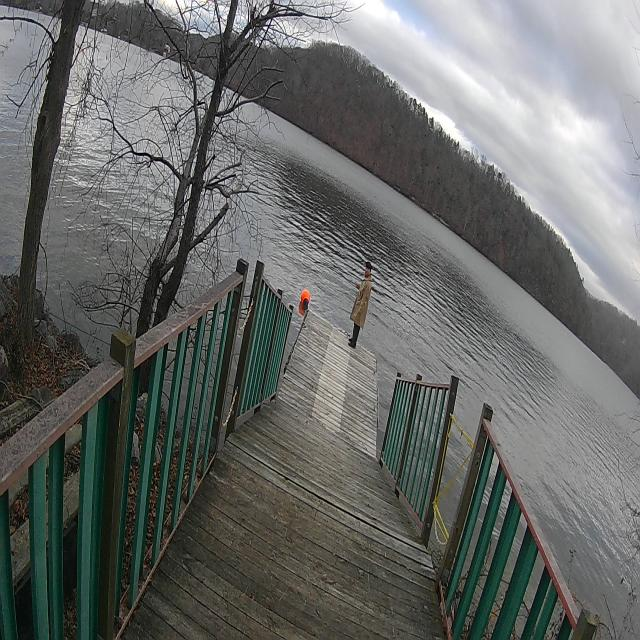Buoy: (300, 288, 311, 308)
